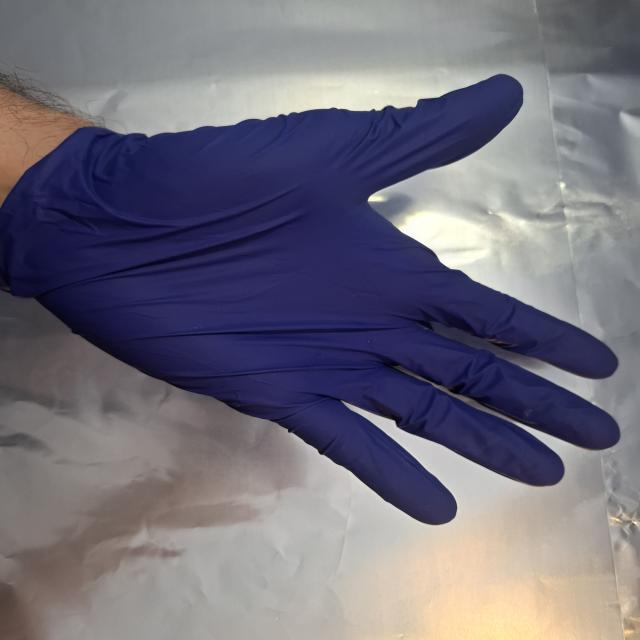glove_on: (4, 70, 628, 528)
